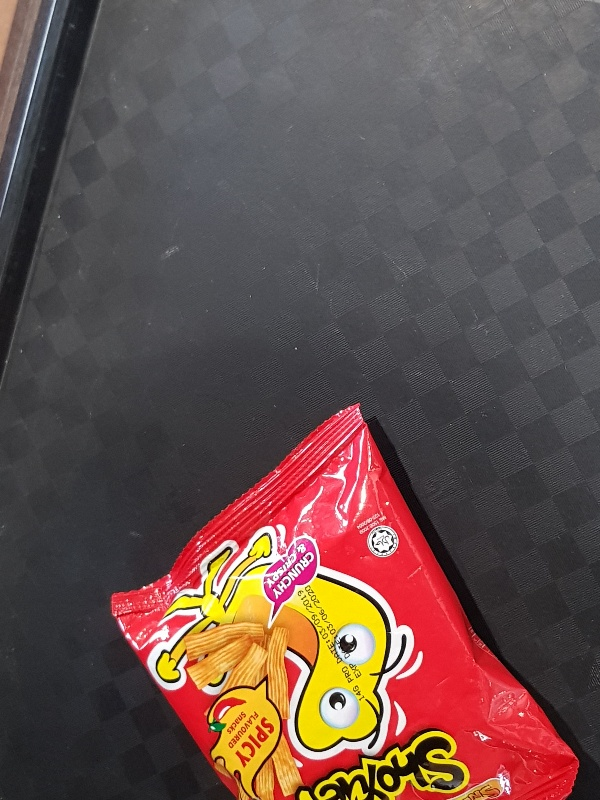ShoyueMi Spicy Flavoured Snacks: (109, 400, 583, 800)
